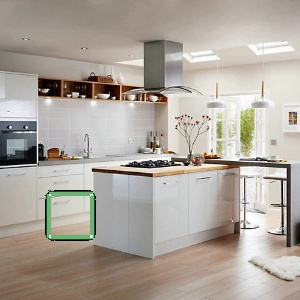square: (44, 189, 96, 241)
